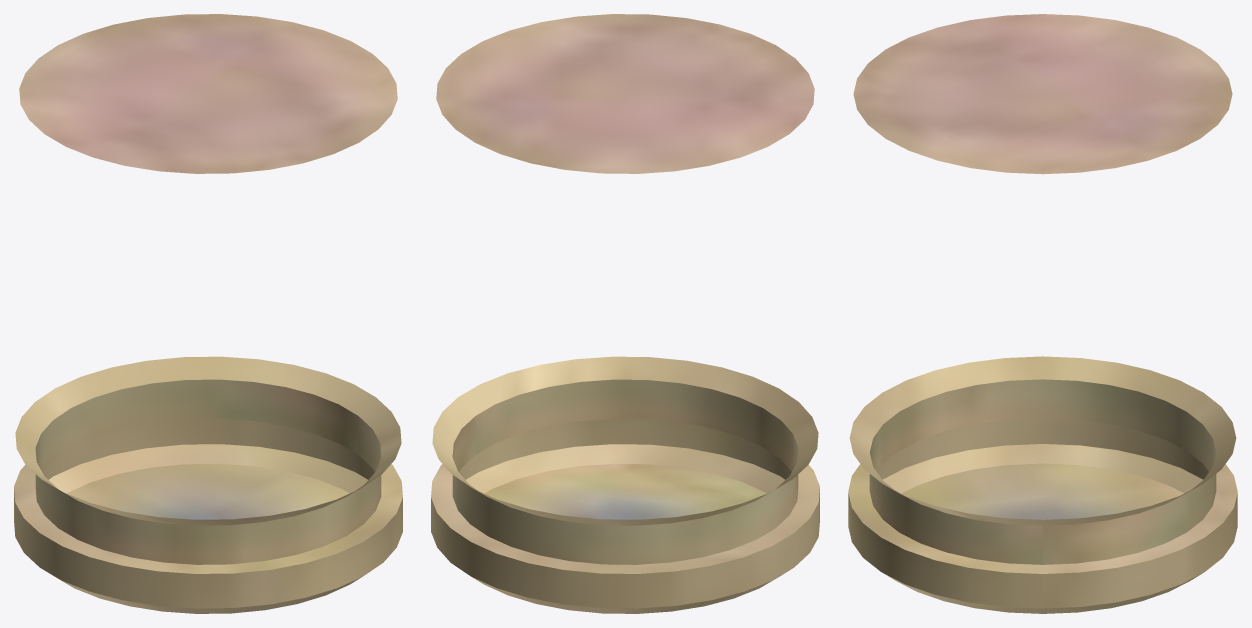
Rendered from shell-9mm.glb.
3 views of the same model, side by side, from view 1: azimuth 30°, elevation 25°; view 2: azimuth 150°, elevation 25°; view 3: azimuth 270°, elevation 25° (orthographic).
Visible parts, largest first — view 1: shell_9mm; view 2: shell_9mm; view 3: shell_9mm.
Boxes of the visible parts, x1=… form: shell_9mm: x1=14, y1=14, x2=402, y2=613; shell_9mm: x1=431, y1=14, x2=819, y2=613; shell_9mm: x1=848, y1=14, x2=1237, y2=613.
Bounding box in the file's own units: 0.0151 × 0.019 × 0.0151.
Materials: 1 (1 with a texture image).
